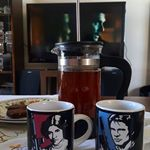cups: (24, 99, 93, 150), (93, 98, 150, 148)
